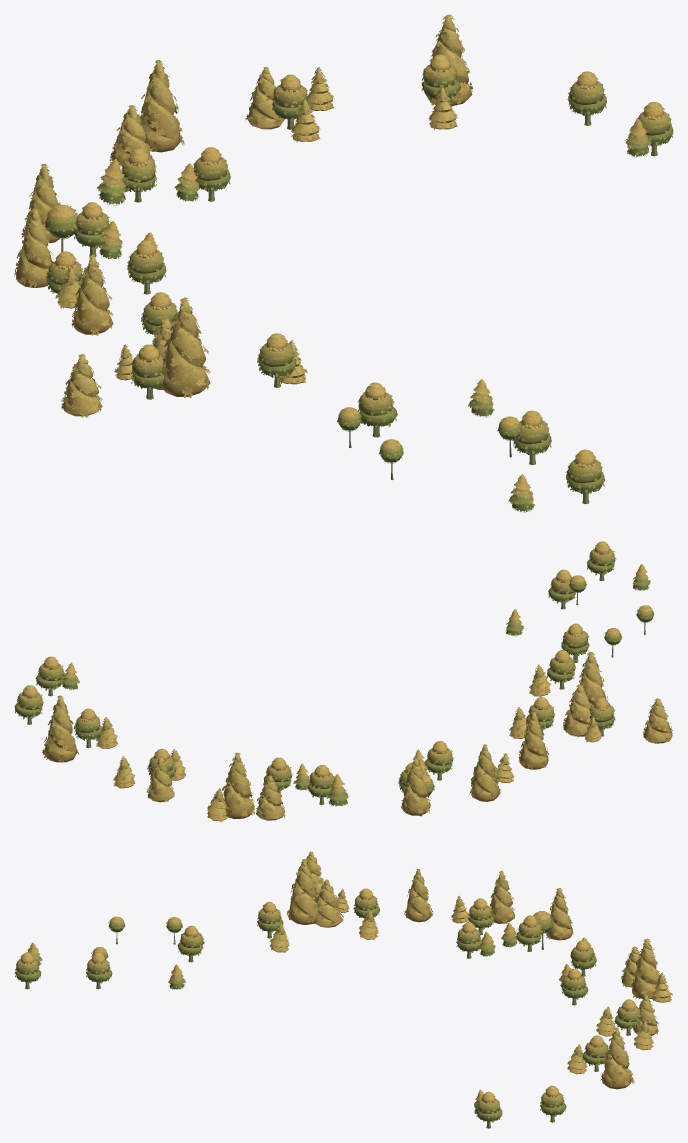
Rendered from pref_sm_garden_tree_vertexcolor_01_lv2.fbx.
The picture shows the model from 3 angles, top to bottom: view 1: azimuth 30°, elevation 25°; view 2: azimuth 150°, elevation 25°; view 3: azimuth 270°, elevation 25°; orthographic projection. The views are drawn at different scales.
Visible parts, largest first — view 1: pref_sm_garden_tree_vertexcolor_01_lv2; view 2: pref_sm_garden_tree_vertexcolor_01_lv2; view 3: pref_sm_garden_tree_vertexcolor_01_lv2.
Boxes of the visible parts, x1=… form: pref_sm_garden_tree_vertexcolor_01_lv2: x1=14, y1=14, x2=673, y2=512; pref_sm_garden_tree_vertexcolor_01_lv2: x1=14, y1=541, x2=672, y2=822; pref_sm_garden_tree_vertexcolor_01_lv2: x1=14, y1=851, x2=672, y2=1128.
Bounding box in the file's own units: 52.59 × 7.37 × 60.72.
